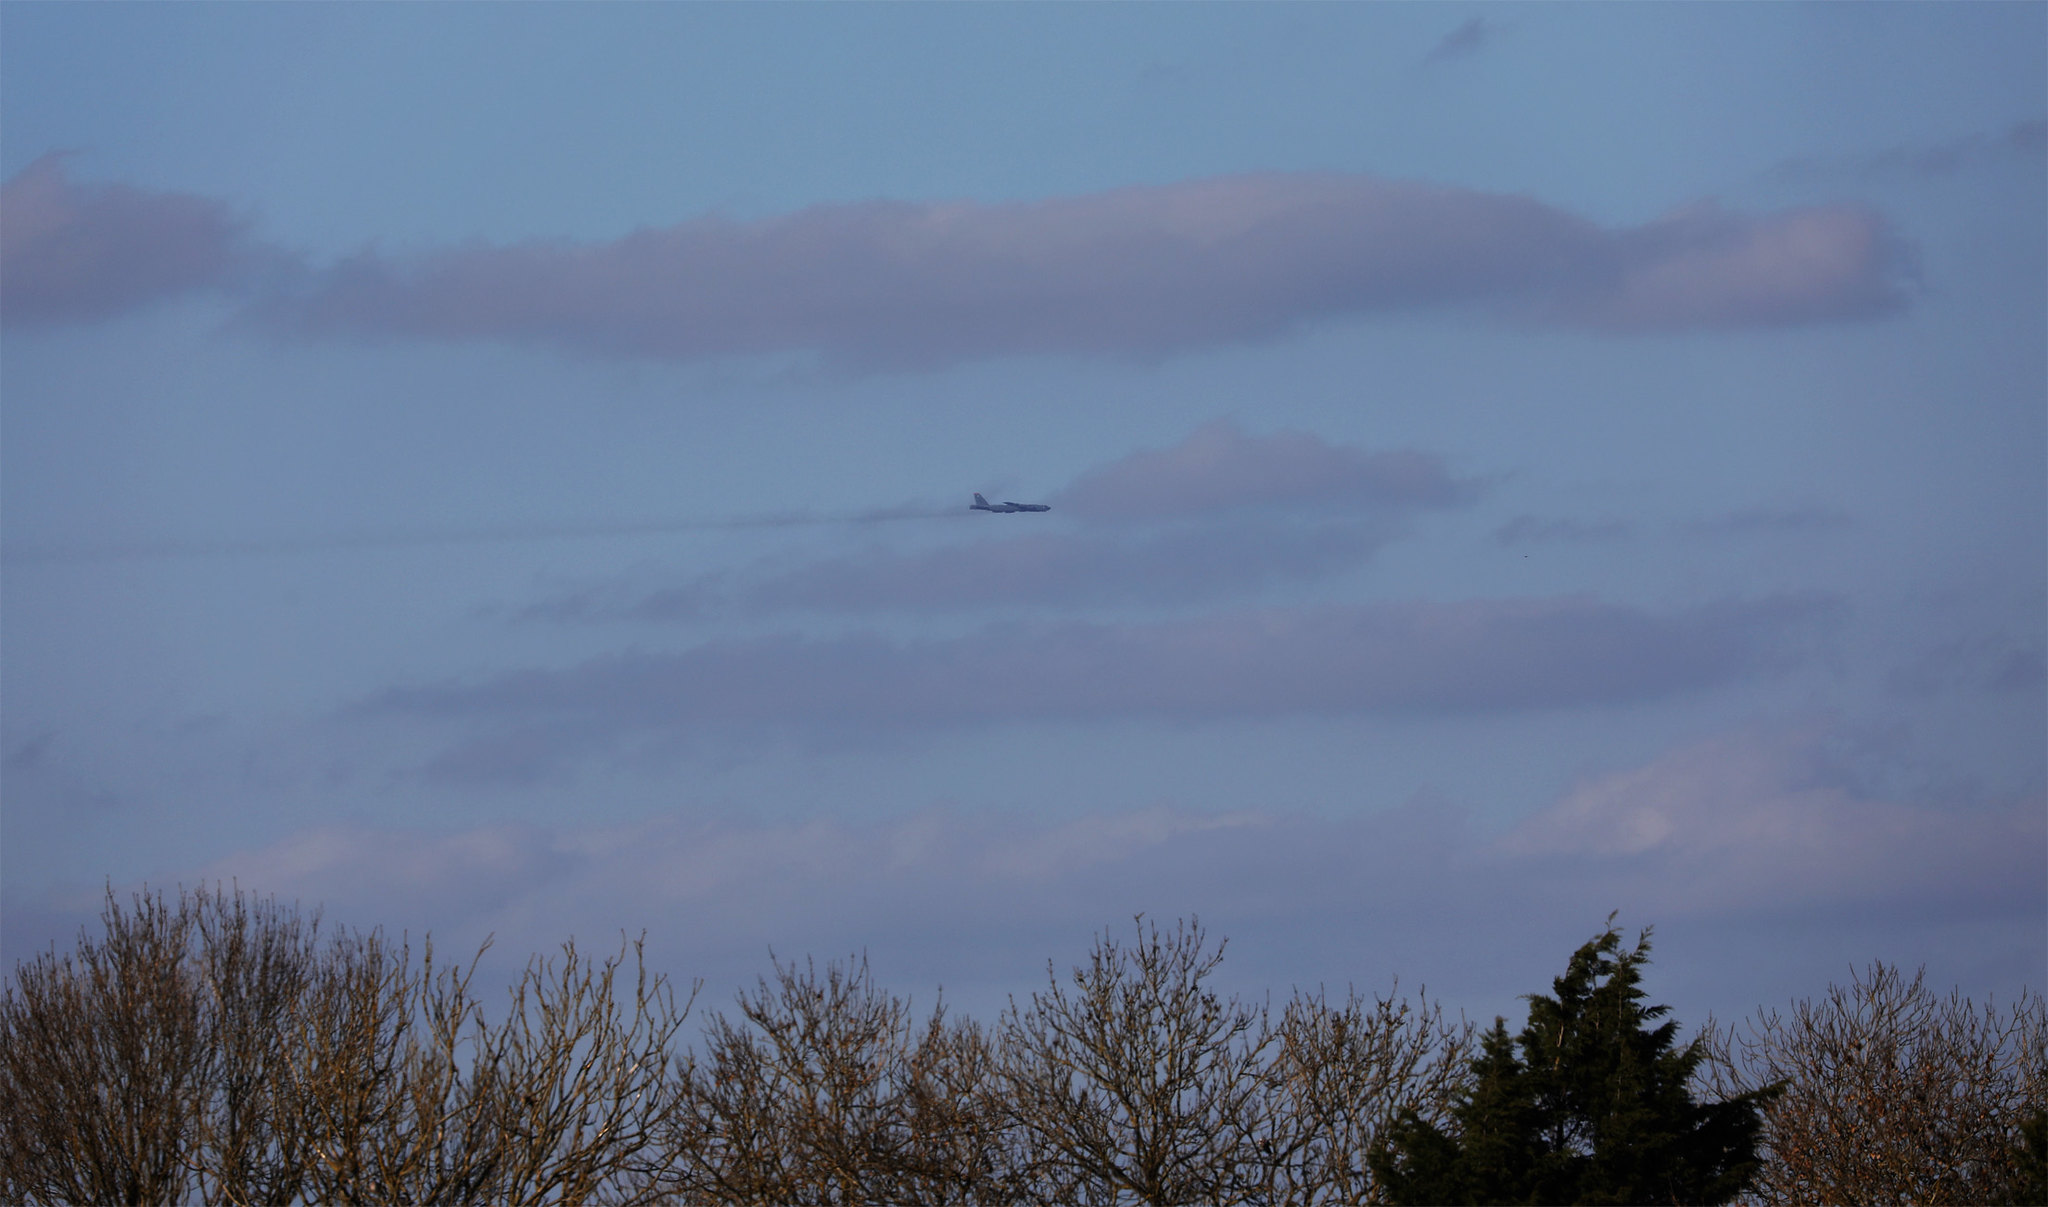B52: (968, 491, 1051, 514)
